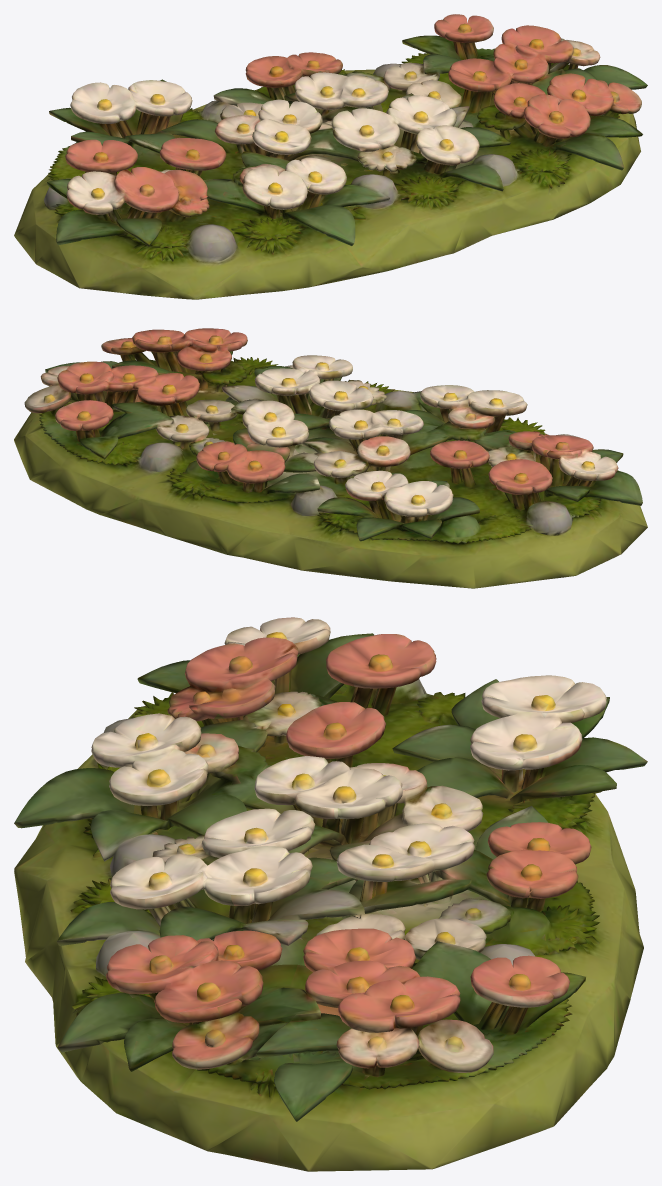
The model's file is flower_patch.glb.
3 renders of one model, top to bottom at view 1: azimuth 30°, elevation 25°; view 2: azimuth 150°, elevation 25°; view 3: azimuth 270°, elevation 25°, orthographic. The views are drawn at different scales.
Parts seen in each view (by area): view 1: node_0; view 2: node_0; view 3: node_0.
Boxes of the visible parts, <box> form: node_0: <box>14,14,647,299</box>; node_0: <box>14,328,647,588</box>; node_0: <box>14,617,647,1171</box>.
Size of the model in its own units: 1.19 by 0.1542 by 0.683.
1 material, 1 textured.
